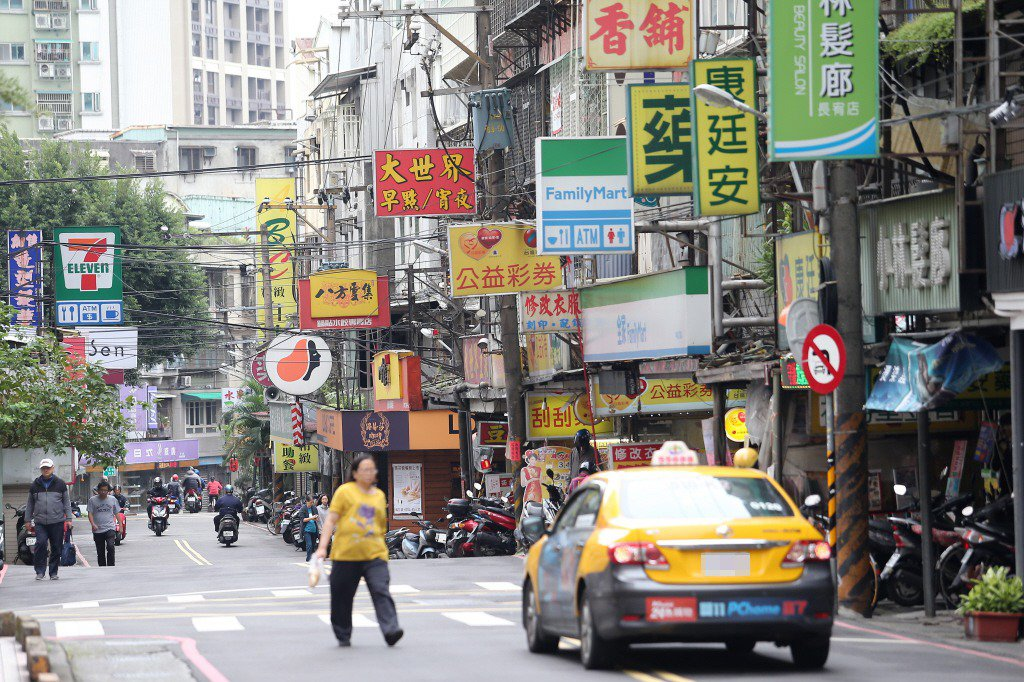car: (516, 456, 860, 669)
pedestrian: (321, 452, 416, 638), (27, 459, 74, 583), (87, 481, 129, 569)
